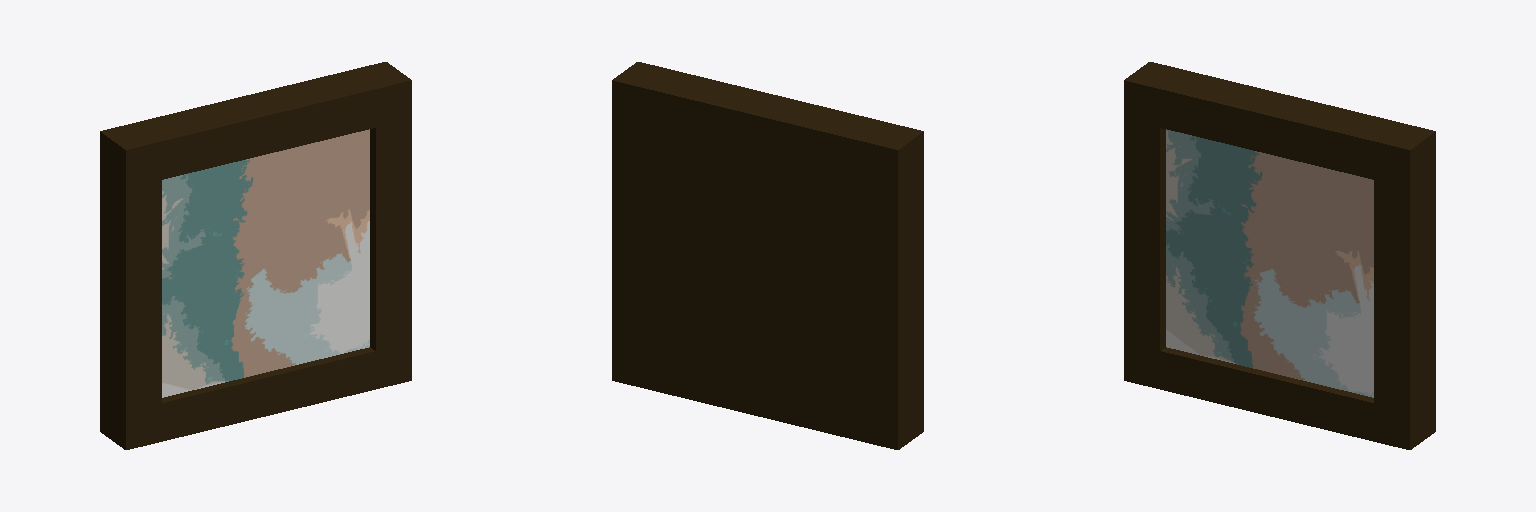
3 renders of one model, left to right at view 1: azimuth 30°, elevation 25°; view 2: azimuth 150°, elevation 25°; view 3: azimuth 330°, elevation 25°, orthographic.
Visible parts, largest first — view 1: Painting_Small; view 2: Painting_Small; view 3: Painting_Small.
Part boxes in pixels (x1,y1,x2,y2): Painting_Small: (100,62,411,449); Painting_Small: (612,62,923,449); Painting_Small: (1124,62,1435,449).
Size of the model in its own units: 0.2517 by 0.2523 by 0.0394.
2 materials, 2 textured.